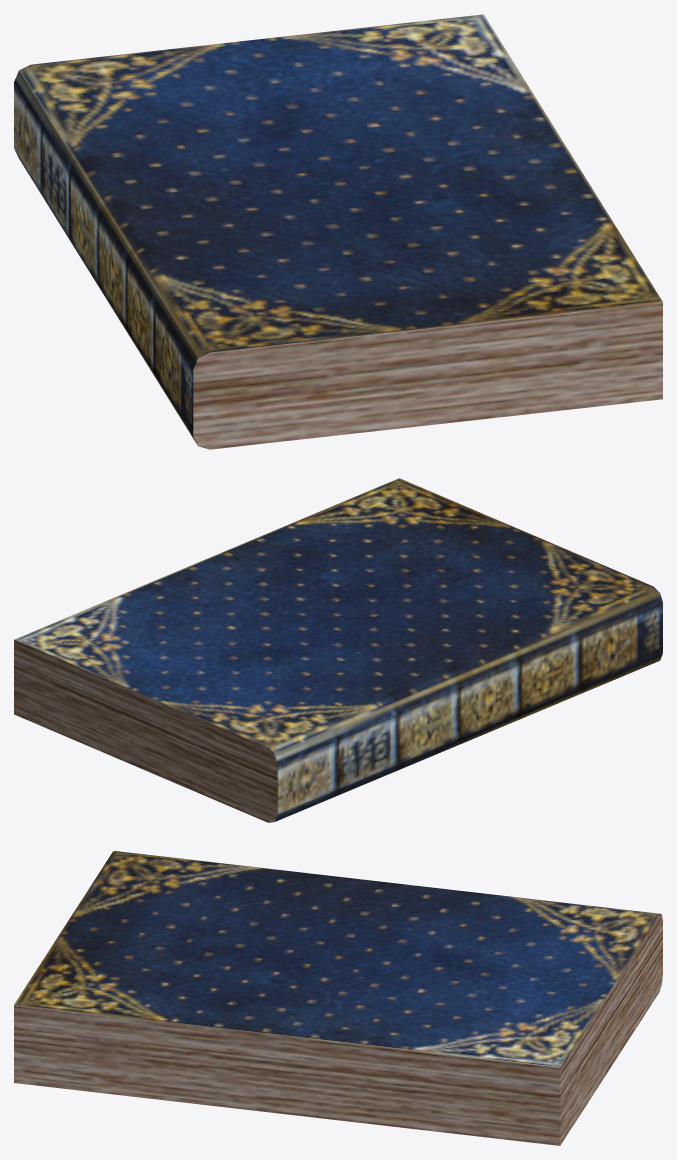
The model's file is book_blue.fbx.
3 renders of one model, top to bottom at view 1: azimuth 30°, elevation 25°; view 2: azimuth 150°, elevation 25°; view 3: azimuth 270°, elevation 25°, orthographic. The views are drawn at different scales.
Visible parts, largest first — view 1: obj_book_blue; view 2: obj_book_blue; view 3: obj_book_blue.
Part boxes in pixels (x1,y1,x2,y2): obj_book_blue: [14, 14, 662, 449]; obj_book_blue: [14, 478, 662, 822]; obj_book_blue: [14, 851, 662, 1145].
Size of the model in its own units: 60.16 by 9.86 by 74.26.
Materials: 1 (1 with a texture image).
